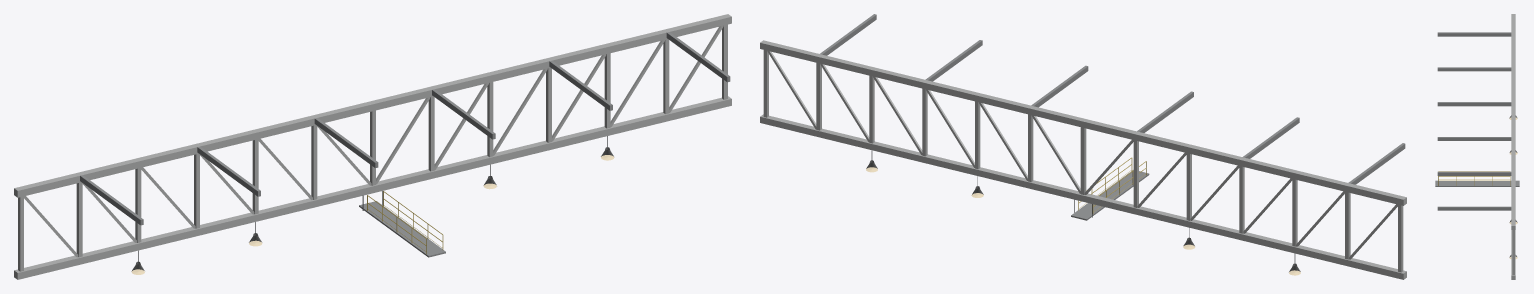
File: truss_1.glb
3 views of the same model, side by side, from view 1: azimuth 30°, elevation 25°; view 2: azimuth 150°, elevation 25°; view 3: azimuth 270°, elevation 25° (orthographic). The views are drawn at different scales.
Visible parts, largest first — view 1: truss_1; view 2: truss_1; view 3: truss_1.
Boxes of the visible parts, left/top/right/bottom form: truss_1: left=14, top=14, right=731, bottom=279; truss_1: left=760, top=14, right=1406, bottom=279; truss_1: left=1435, top=14, right=1519, bottom=279.
Size of the model in its own units: 48.7 by 7.36 by 8.2.
